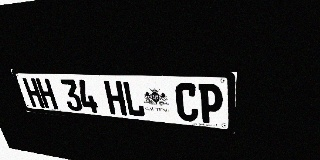3: (60, 79, 83, 111)
4: (75, 80, 99, 113)
C: (175, 83, 199, 122)
H: (103, 80, 127, 116), (35, 78, 58, 109), (22, 78, 45, 108)
L: (122, 81, 146, 117)
P: (198, 83, 223, 124)
